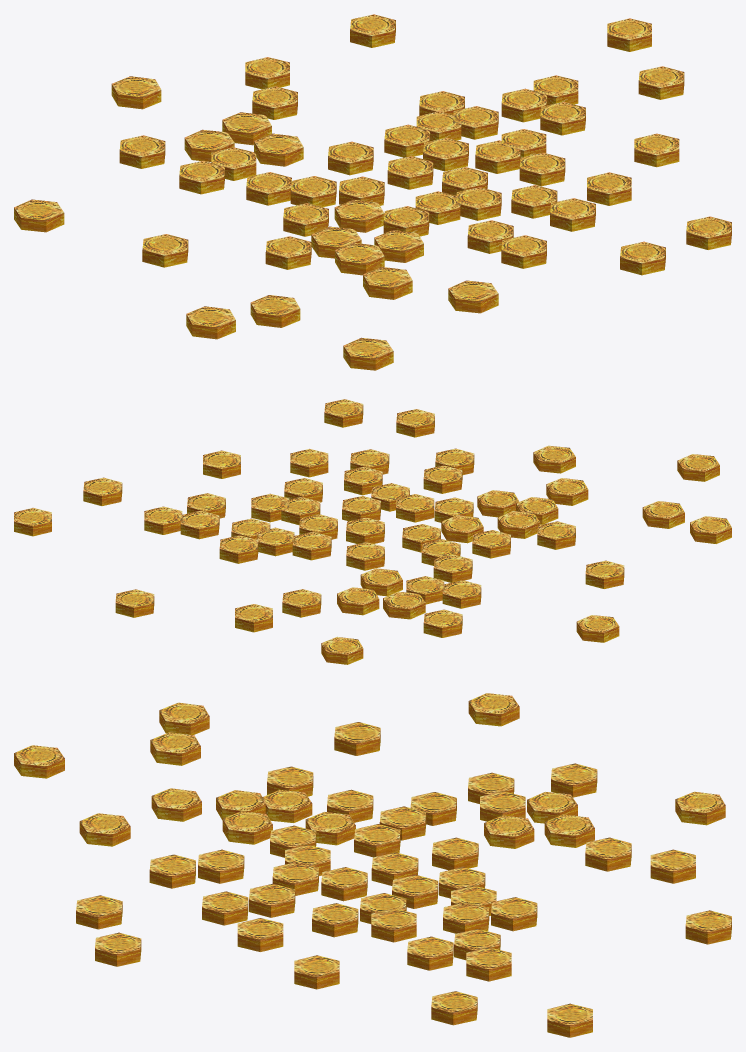
Rendered from jingbi.fbx.
3 renders of one model, top to bottom at view 1: azimuth 30°, elevation 25°; view 2: azimuth 150°, elevation 25°; view 3: azimuth 270°, elevation 25°, orthographic. The views are drawn at different scales.
Parts seen in each view (by area): view 1: jingbi; view 2: jingbi; view 3: jingbi.
Part boxes in pixels (box(x1,y1,x2,y2)): jingbi: box(14, 14, 731, 370); jingbi: box(14, 399, 731, 664); jingbi: box(14, 693, 731, 1037).
Bounding box in the file's own units: 405 × 6.89 × 370.
